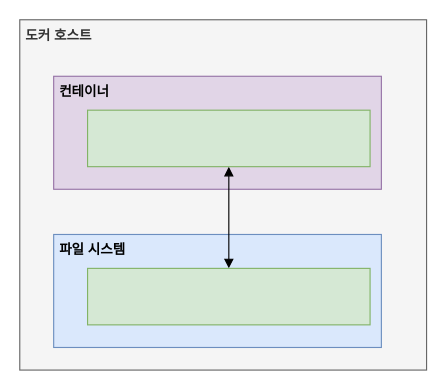
Image size: 446x390. Some labels were removed from this diagram. Here are the shapes that lost their labels. From the top down, the centre of each, then its label:
the point at 228,138: /work
the point at 228,296: /home/assu/work/ch04/ex01
